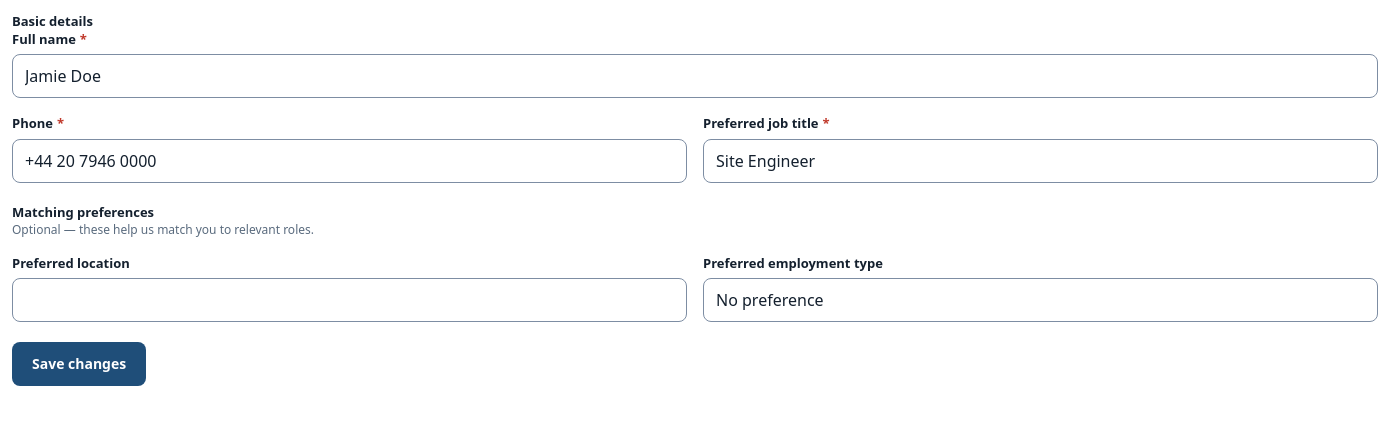
Test case: CandidateProfileForm › blocks submission and shows a client error when a required field is cleared
The image size is (1390, 431).
Clear the field labelled "Full name*" at (695, 76), box [12,54,1378,98]
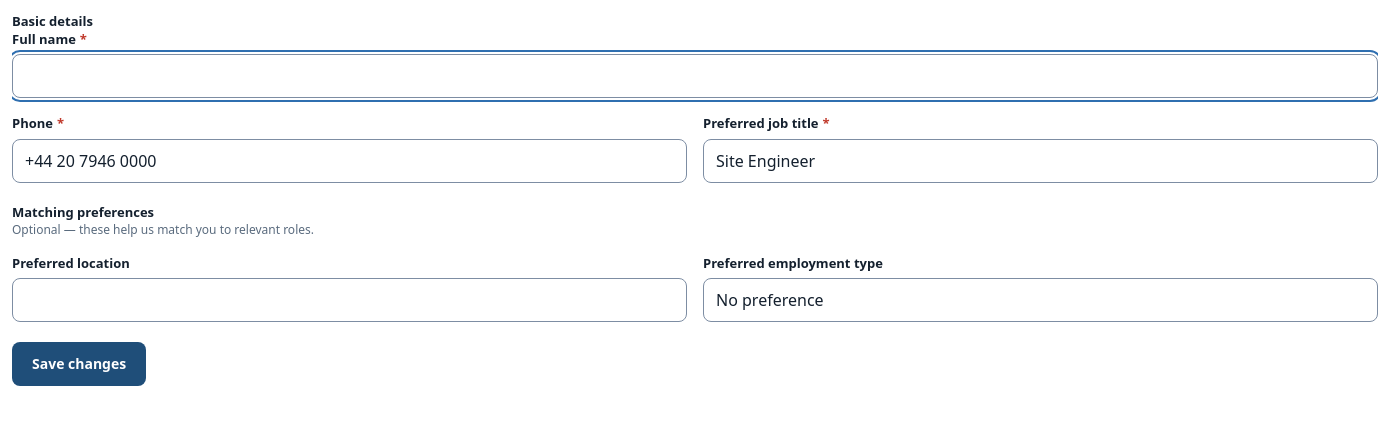
Click the button "Save changes" at (79, 364), box [12,342,146,386]
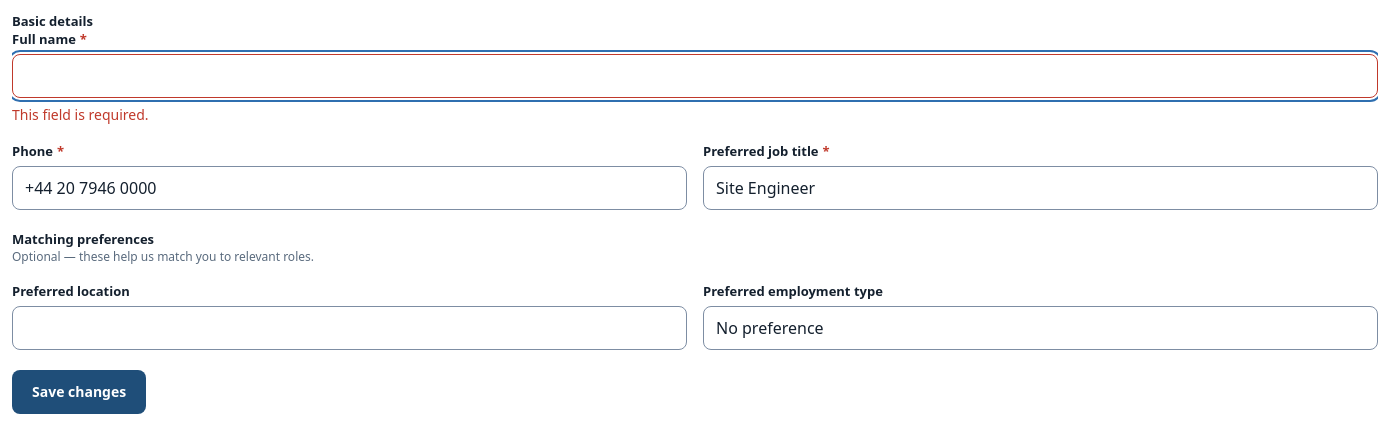
expect the text "This field is required." is shown: met, box [12,105,149,124]
